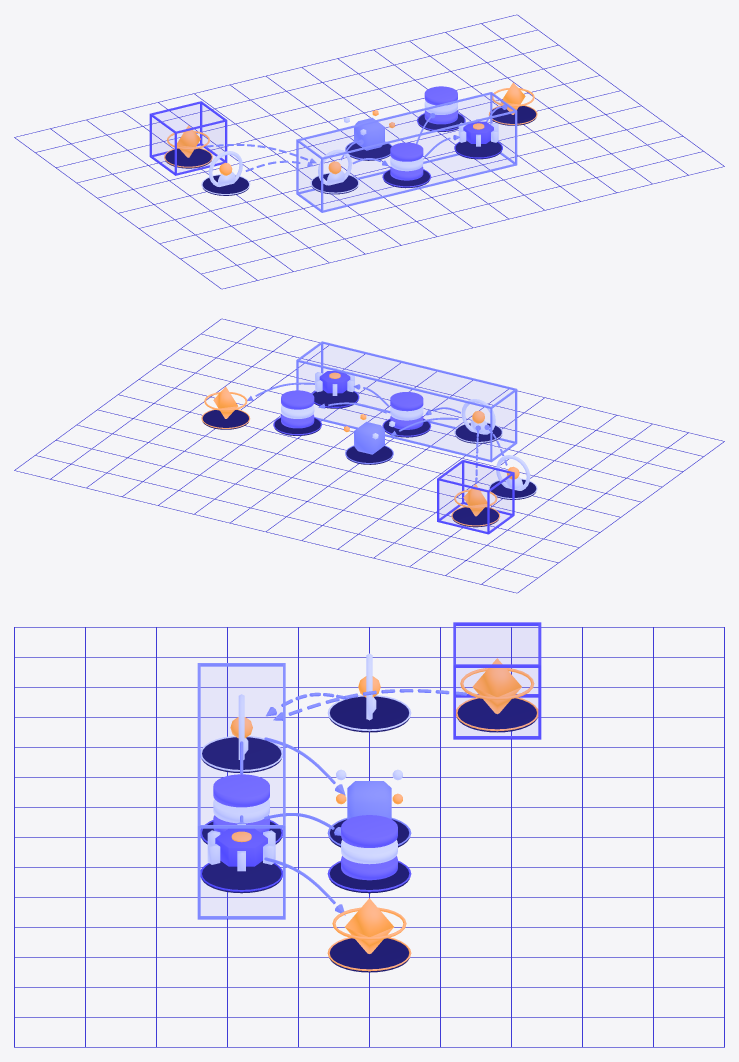
File: prometheus.glb
3 renders of one model, top to bottom at view 1: azimuth 30°, elevation 25°; view 2: azimuth 150°, elevation 25°; view 3: azimuth 270°, elevation 25°, orthographic. The views are drawn at different scales.
Parts seen in each view (by area): view 1: floor, group_Prometheus, group_Kubernetes, mesh_targets_core, mesh_sm_pad, mesh_rules_pad, mesh_am_pad, mesh_tsdb_disc2, mesh_grafana_pad, mesh_prom_pad, mesh_thanos_disc2, mesh_targets_pad (+1 smaller); view 2: floor, group_Prometheus, group_Kubernetes, mesh_targets_core, mesh_am_pad, mesh_sm_pad, mesh_rules_pad, mesh_targets_pad, mesh_thanos_disc2, mesh_tsdb_disc2, mesh_prom_pad, mesh_grafana_pad (+1 smaller); view 3: floor, group_Prometheus, mesh_grafana_pad, mesh_prom_pad, mesh_sm_pad, mesh_am_pad, group_Kubernetes, mesh_rules_pad, mesh_tsdb_disc2, mesh_thanos_disc2, mesh_targets_core, mesh_rules_hex (+6 smaller).
Part boxes in pixels (left/top/right/bottom): floor: left=14, top=14, right=724, bottom=289; group_Prometheus: left=296, top=92, right=517, bottom=212; group_Kubernetes: left=149, top=101, right=227, bottom=175; mesh_targets_core: left=354, top=117, right=384, bottom=150; mesh_sm_pad: left=165, top=148, right=211, bottom=168; mesh_rules_pad: left=455, top=140, right=501, bottom=159; mesh_am_pad: left=490, top=106, right=536, bottom=125; mesh_tsdb_disc2: left=390, top=142, right=423, bottom=161; mesh_grafana_pad: left=202, top=175, right=248, bottom=195; mesh_prom_pad: left=312, top=173, right=357, bottom=194; mesh_thanos_disc2: left=424, top=86, right=457, bottom=105; mesh_targets_pad: left=346, top=143, right=391, bottom=160; floor: left=14, top=318, right=724, bottom=593; group_Prometheus: left=296, top=341, right=517, bottom=462; group_Kubernetes: left=437, top=460, right=514, bottom=534; mesh_targets_core: left=354, top=421, right=384, bottom=454; mesh_am_pad: left=202, top=410, right=248, bottom=429; mesh_sm_pad: left=452, top=507, right=498, bottom=527; mesh_rules_pad: left=313, top=390, right=358, bottom=408; mesh_targets_pad: left=346, top=446, right=392, bottom=464; mesh_thanos_disc2: left=281, top=390, right=314, bottom=409; mesh_tsdb_disc2: left=390, top=392, right=423, bottom=411; mesh_prom_pad: left=455, top=423, right=501, bottom=443; mesh_grafana_pad: left=490, top=479, right=536, bottom=499; floor: left=14, top=627, right=724, bottom=1047; group_Prometheus: left=197, top=663, right=285, bottom=919; mesh_grafana_pad: left=329, top=696, right=409, bottom=732; mesh_prom_pad: left=201, top=737, right=281, bottom=772; mesh_sm_pad: left=457, top=698, right=537, bottom=732; mesh_am_pad: left=329, top=938, right=409, bottom=972; group_Kubernetes: left=453, top=622, right=541, bottom=739; mesh_rules_pad: left=201, top=861, right=281, bottom=893; mesh_tsdb_disc2: left=213, top=774, right=269, bottom=807; mesh_thanos_disc2: left=341, top=815, right=397, bottom=847; mesh_targets_core: left=347, top=781, right=391, bottom=819; mesh_rules_hex: left=215, top=828, right=267, bottom=866.
Bounding box in the file's own units: 28.03 × 2.99 × 20.03.
